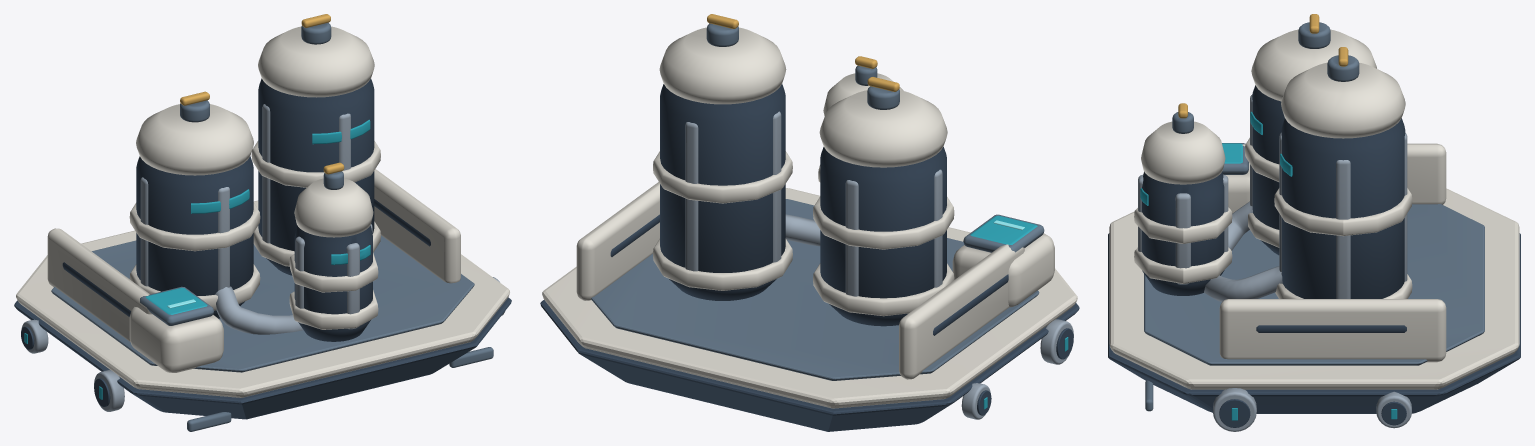
File: heavy_element_refinery_lv3.glb
The picture shows the model from 3 angles, left to right: view 1: azimuth 30°, elevation 25°; view 2: azimuth 150°, elevation 25°; view 3: azimuth 270°, elevation 25°; orthographic projection. The views are drawn at different scales.
Parts seen in each view (by area): view 1: Structure; view 2: Structure; view 3: Structure.
Part boxes in pixels (box(x1,y1,x2,y2)): Structure: box(14, 14, 511, 431); Structure: box(540, 14, 1079, 431); Structure: box(1108, 14, 1520, 431).
Size of the model in its own units: 7.18 by 5.15 by 6.01.
